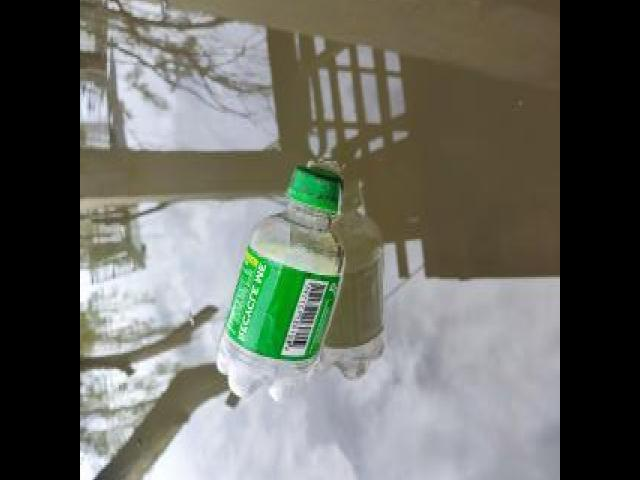Bottle: (197, 150, 360, 410)
